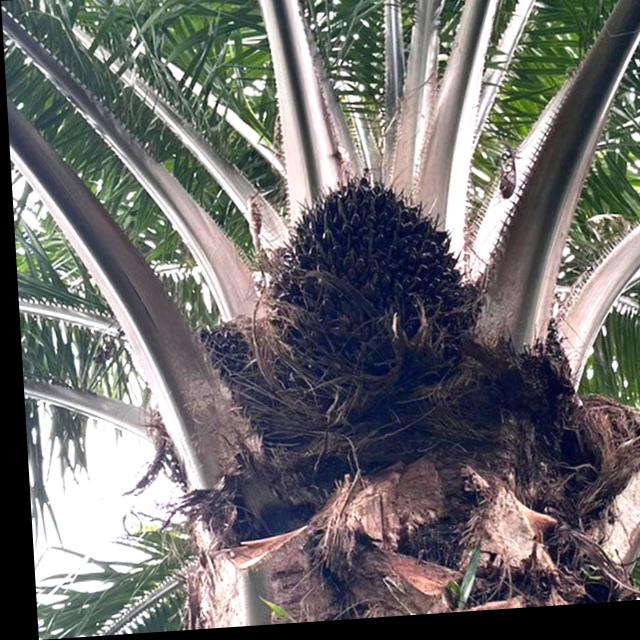ripe: (236, 155, 496, 434)
